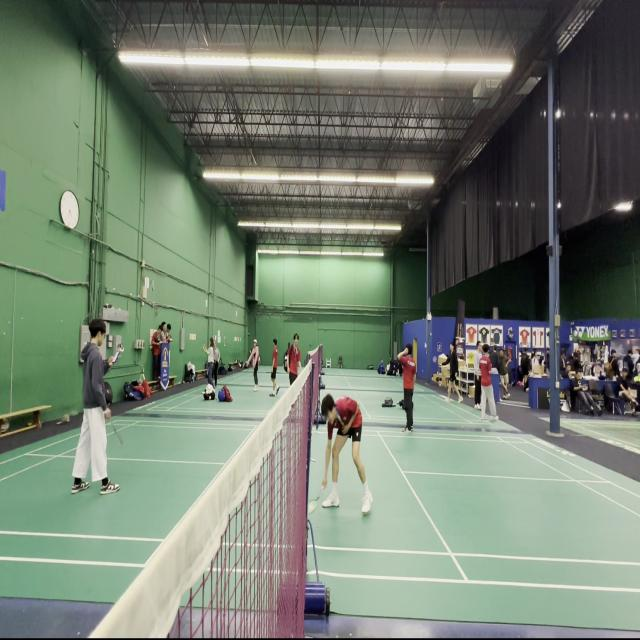shuttlecock: (309, 502, 315, 511)
